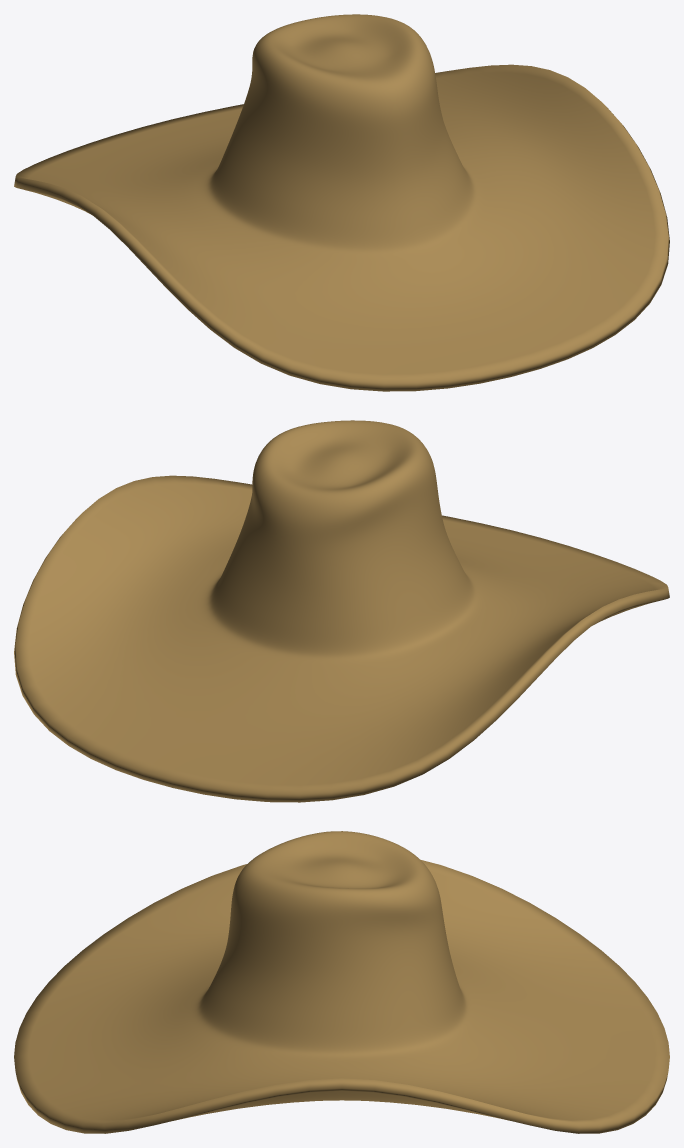
Rendered from cowboy_hat.fbx.
3 views of the same model, one above another, from view 1: azimuth 30°, elevation 25°; view 2: azimuth 150°, elevation 25°; view 3: azimuth 270°, elevation 25° (orthographic). The views are drawn at different scales.
Visible parts, largest first — view 1: Cube; view 2: Cube; view 3: Cube.
Boxes of the visible parts, <box> form: Cube: <box>14,14,669,391</box>; Cube: <box>14,420,669,802</box>; Cube: <box>14,831,669,1133</box>.
Bounding box in the file's own units: 545 × 222 × 644.
